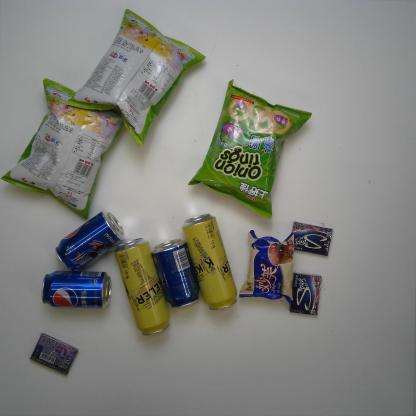Alcohol: (113, 236, 172, 338), (181, 213, 238, 313)
Dessert: (236, 229, 296, 304)
Drink: (53, 208, 126, 272), (150, 238, 200, 310), (40, 269, 115, 310)
Gum: (28, 332, 81, 378), (290, 220, 334, 258), (288, 271, 322, 318)
Puffed Food: (65, 7, 208, 148), (187, 78, 313, 221), (1, 77, 125, 220)
